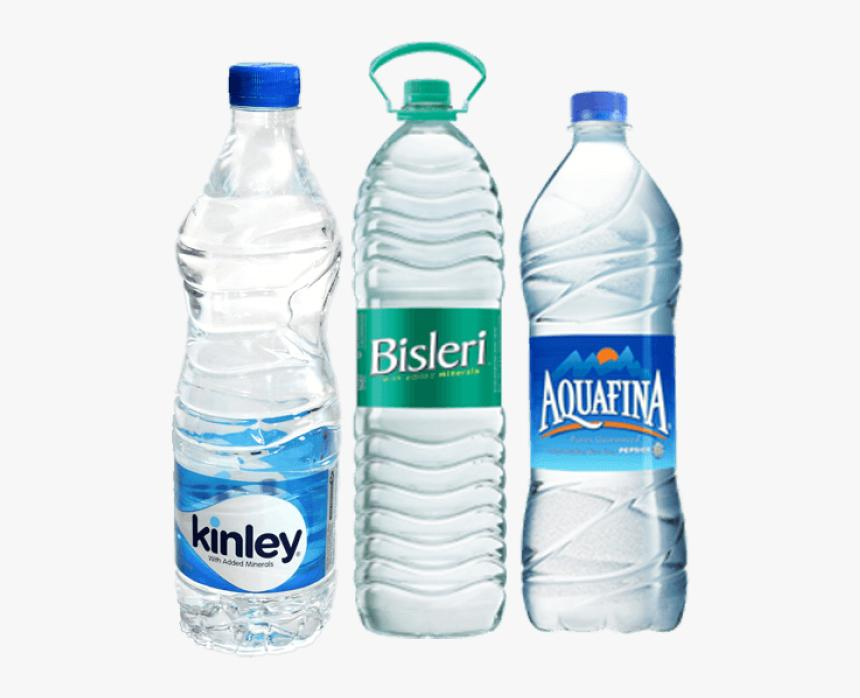bottle: (166, 0, 711, 371)
